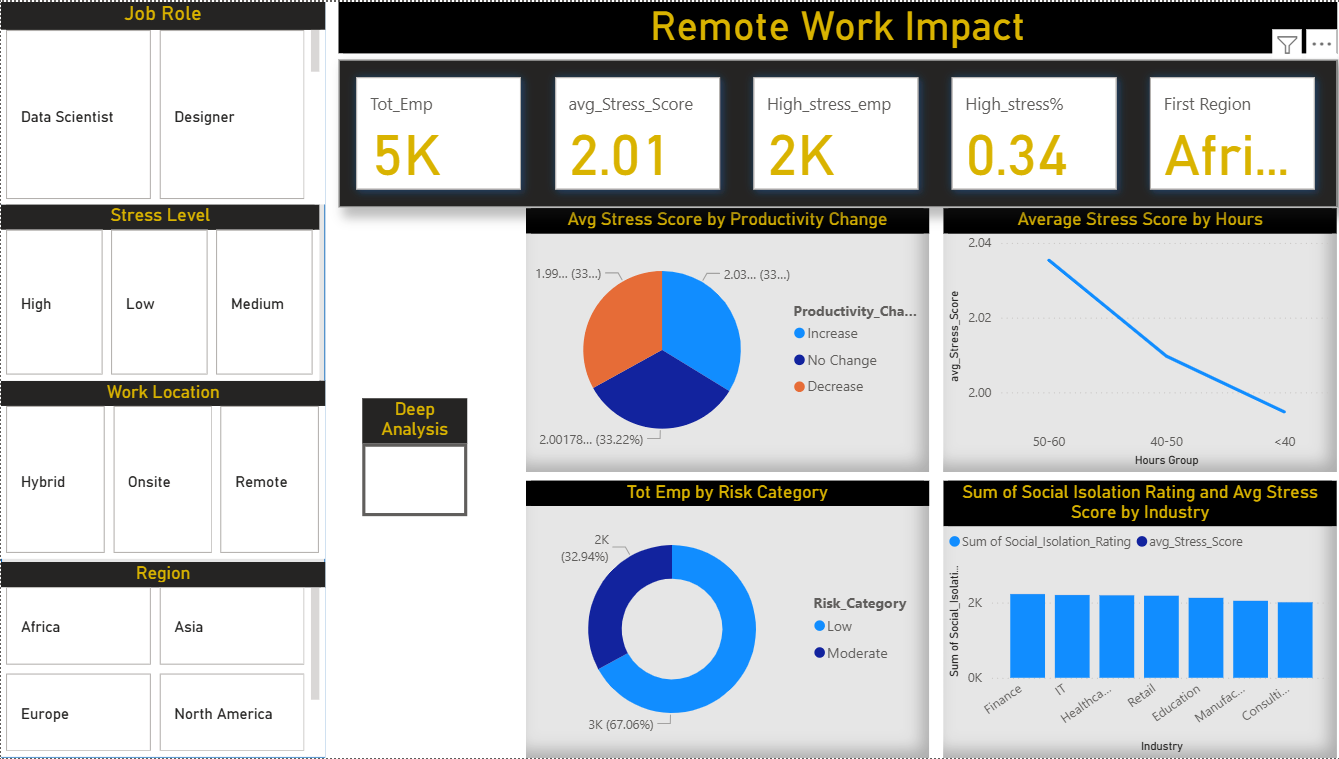

What the dashboard file says about the page in this screenshot:
{"tool":"powerbi","page":{"name":"Page 2","canvas":[1280,720],"ordinal":1},"visuals":[{"type":"pieChart","title":"Avg Stress Score by Productivity Change","fields":{"Category":["Impact_of_Remote_Work_on_Mental_Health.Productivity_Change"],"Y":["Impact_of_Remote_Work_on_Mental_Health.avg_Stress_Score"]},"box":[500,196.4,383.6,250.9],"z":0},{"type":"donutChart","title":"Tot Emp by Risk Category","fields":{"Category":["Impact_of_Remote_Work_on_Mental_Health.Risk_Category"],"Y":["Impact_of_Remote_Work_on_Mental_Health.Tot_Emp"]},"box":[500,456.4,383.6,263.6],"z":1000},{"type":"lineChart","title":"Average Stress Score by Hours","fields":{"Category":["Impact_of_Remote_Work_on_Mental_Health.Hours Group"],"Y":["Impact_of_Remote_Work_on_Mental_Health.avg_Stress_Score"]},"box":[898.2,196.4,374.5,250.9],"z":2000},{"type":"columnChart","title":"Sum of Social Isolation Rating and Avg Stress Score by Industry","fields":{"Y":["Sum(Impact_of_Remote_Work_on_Mental_Health.Social_Isolation_Rating)","Impact_of_Remote_Work_on_Mental_Health.avg_Stress_Score"],"Category":["Impact_of_Remote_Work_on_Mental_Health.Industry"]},"box":[898.2,456.4,374.5,263.6],"z":3000},{"type":"textbox","title":"Remote Work Impact","box":[321.8,0,950.9,54.5],"z":4000},{"type":"cardVisual","fields":{"Data":["Impact_of_Remote_Work_on_Mental_Health.Tot_Emp","Impact_of_Remote_Work_on_Mental_Health.avg_Stress_Score","Impact_of_Remote_Work_on_Mental_Health.High_stress_emp","Impact_of_Remote_Work_on_Mental_Health.High_stress%","Min(Impact_of_Remote_Work_on_Mental_Health.Region)"]},"box":[321.4,55.4,951.8,141.1],"z":4001},{"type":"shape","box":[0,0,308.9,719.6],"z":4002},{"type":"advancedSlicerVisual","fields":{"Values":["Impact_of_Remote_Work_on_Mental_Health.Region"]},"box":[0,533.9,308.9,185.7],"z":4003},{"type":"advancedSlicerVisual","title":"Work Location","fields":{"Values":["Impact_of_Remote_Work_on_Mental_Health.Work_Location"]},"box":[0,360.7,308.9,169.6],"z":4004},{"type":"advancedSlicerVisual","title":"Stress Level","fields":{"Values":["Impact_of_Remote_Work_on_Mental_Health.Stress_Level"]},"box":[0,192.9,303.6,167.9],"z":4005},{"type":"advancedSlicerVisual","title":"Job Role","fields":{"Values":["Impact_of_Remote_Work_on_Mental_Health.Job_Role"]},"box":[0,0,308.9,192.9],"z":4006},{"type":"actionButton","title":"Deep Analysis","box":[344.6,376.8,100,112.5],"z":4007}]}

Visuals, with their boxes in screenshot pixels (x1, y1, x2, y2), scaled from the page's 1280x720 canvas onto the 1339x759 screenshot:
"Avg Stress Score by Productivity Change" pieChart: left=523, top=207, right=924, bottom=472
"Tot Emp by Risk Category" donutChart: left=523, top=481, right=924, bottom=758
"Average Stress Score by Hours" lineChart: left=940, top=207, right=1331, bottom=472
"Sum of Social Isolation Rating and Avg Stress Score by Industry" columnChart: left=940, top=481, right=1331, bottom=758
"Remote Work Impact" textbox: left=337, top=0, right=1331, bottom=57
cardVisual - Impact_of_Remote_Work_on_Mental_Health.Tot_Emp x Impact_of_Remote_Work_on_Mental_Health.avg_Stress_Score: left=336, top=58, right=1332, bottom=207
shape: left=0, top=0, right=323, bottom=758
advancedSlicerVisual - Impact_of_Remote_Work_on_Mental_Health.Region: left=0, top=563, right=323, bottom=758
"Work Location" advancedSlicerVisual: left=0, top=380, right=323, bottom=559
"Stress Level" advancedSlicerVisual: left=0, top=203, right=318, bottom=380
"Job Role" advancedSlicerVisual: left=0, top=0, right=323, bottom=203
"Deep Analysis" actionButton: left=360, top=397, right=465, bottom=516
